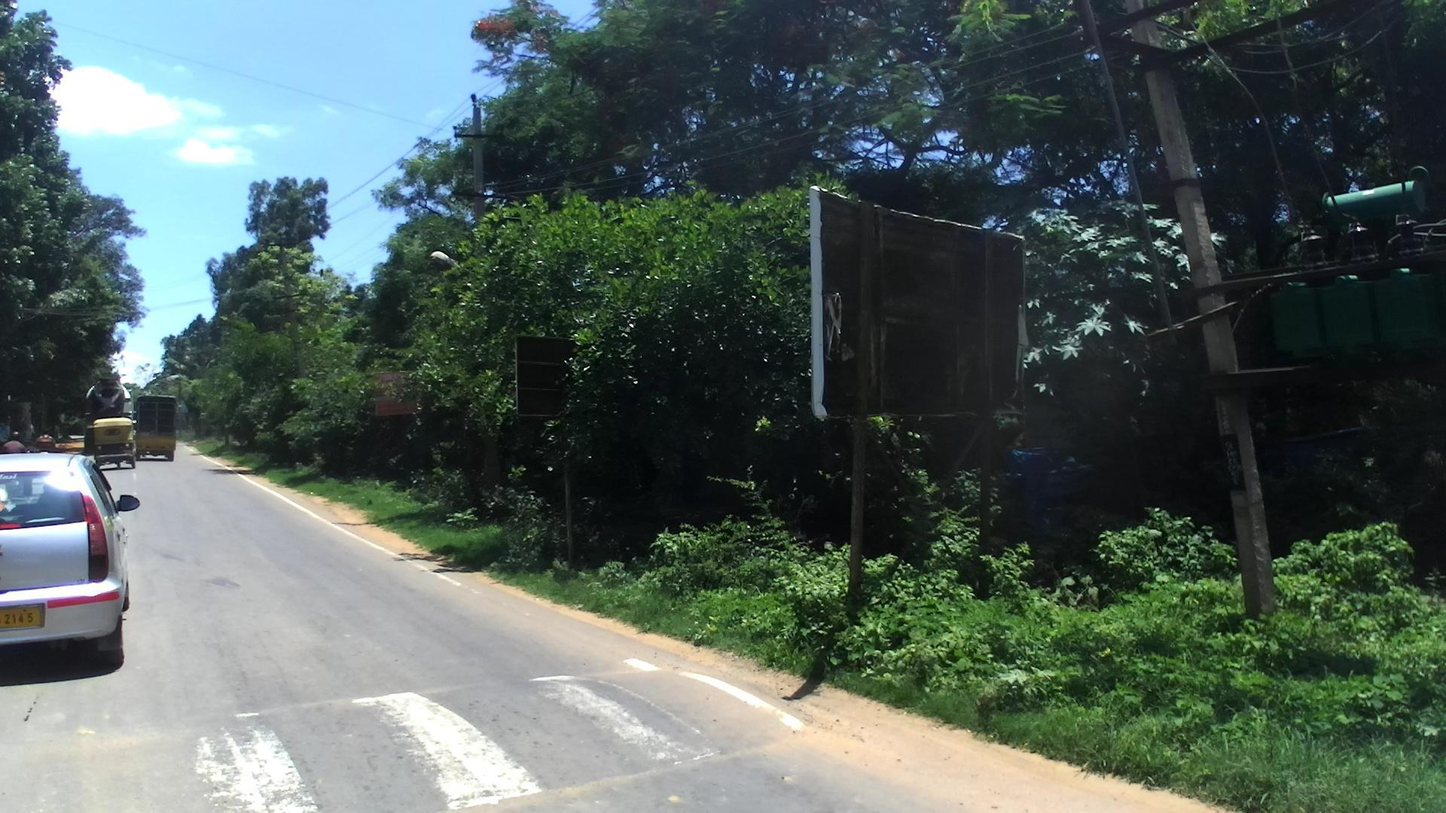streetlight: (430, 251, 462, 267)
